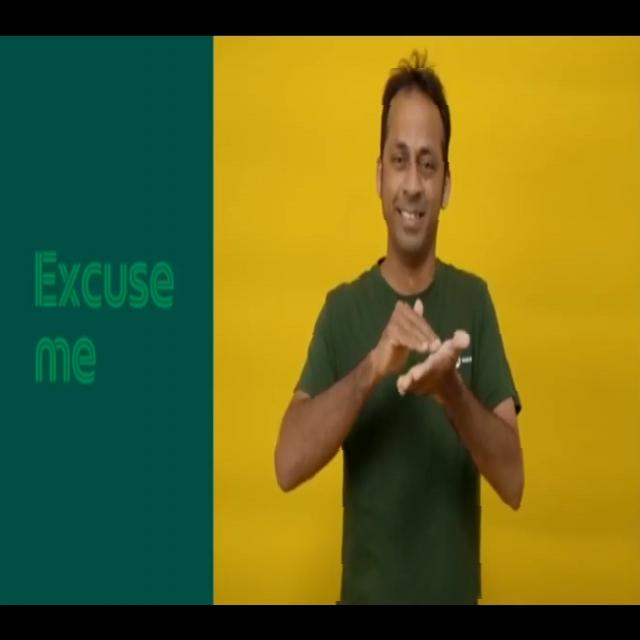ExcuseMe: (275, 67, 525, 601)
